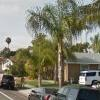Tree: (26, 0, 100, 58)
